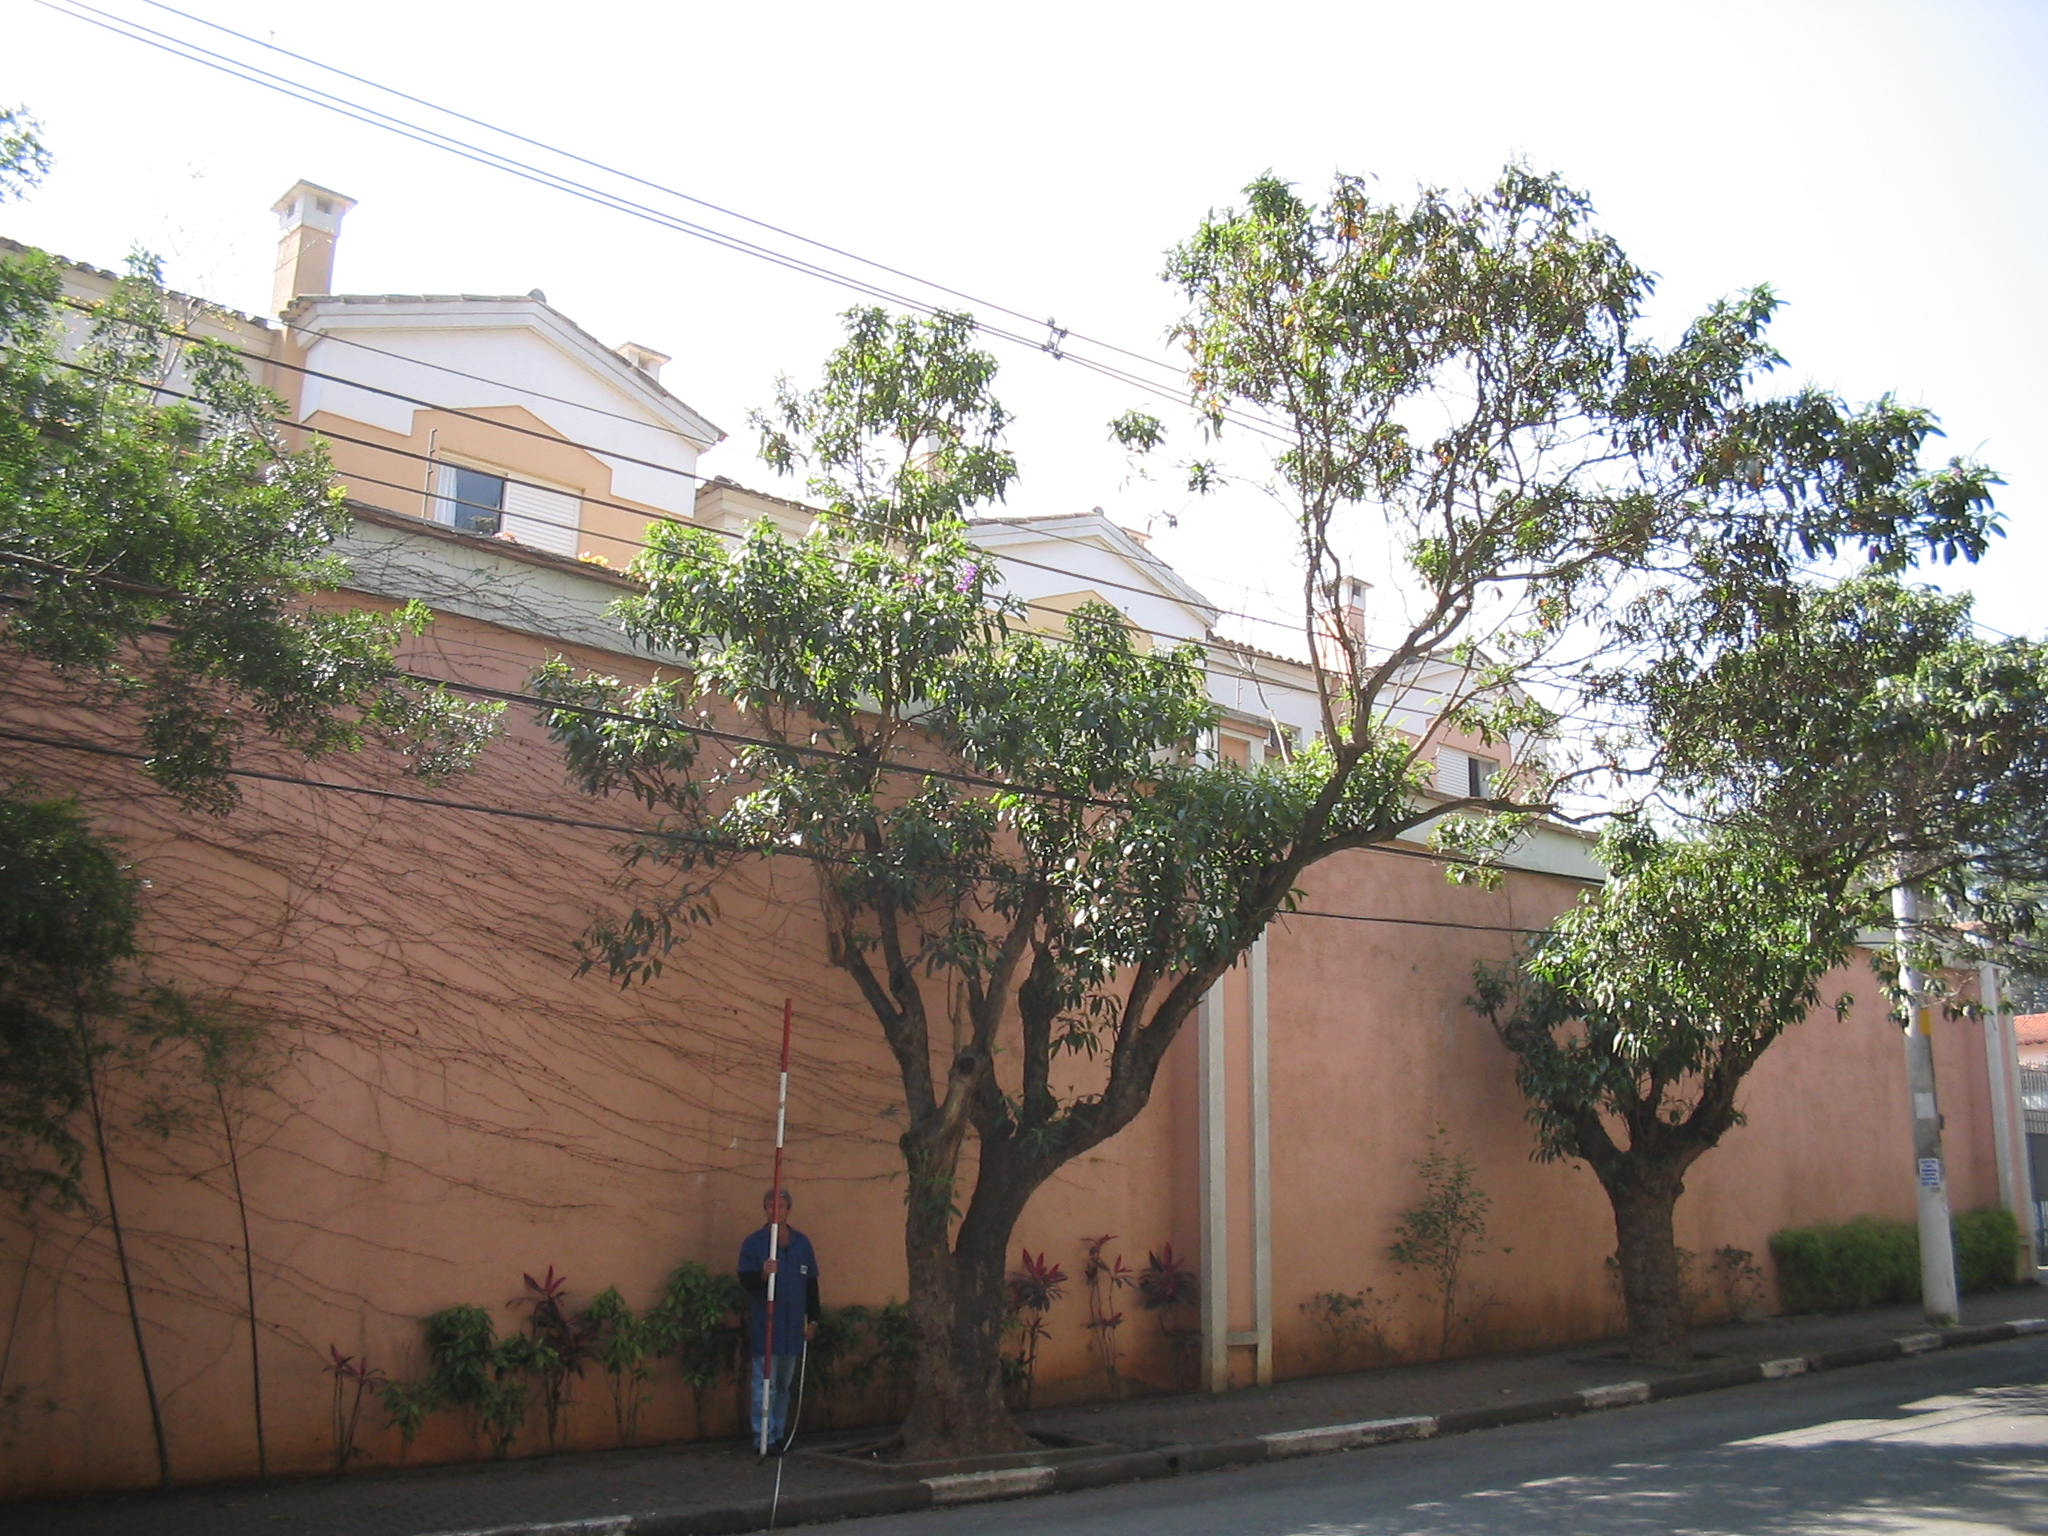crown: (521, 152, 1995, 1000), (1505, 584, 2038, 1171)
stem: (874, 1241, 1051, 1459), (1588, 1191, 1716, 1365)
stick: (751, 999, 806, 1459)
tree: (514, 150, 2001, 1462), (1493, 579, 2040, 1367)
